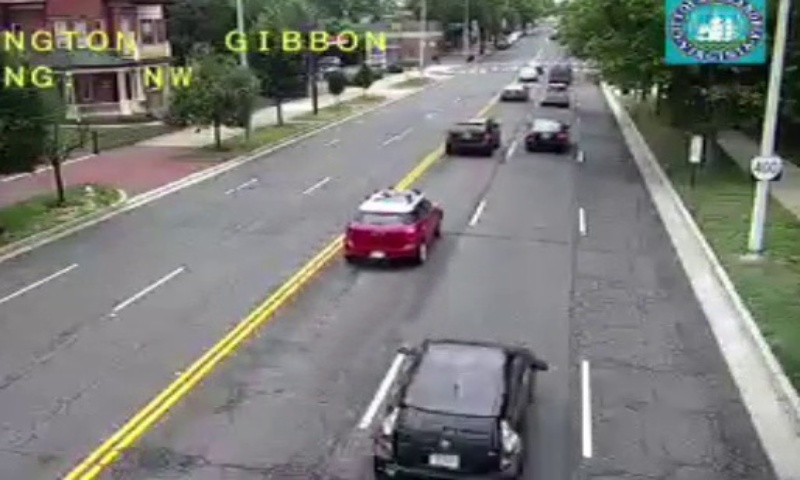car: (371, 340, 533, 480), (342, 187, 443, 261), (445, 120, 498, 154), (526, 117, 568, 150)
